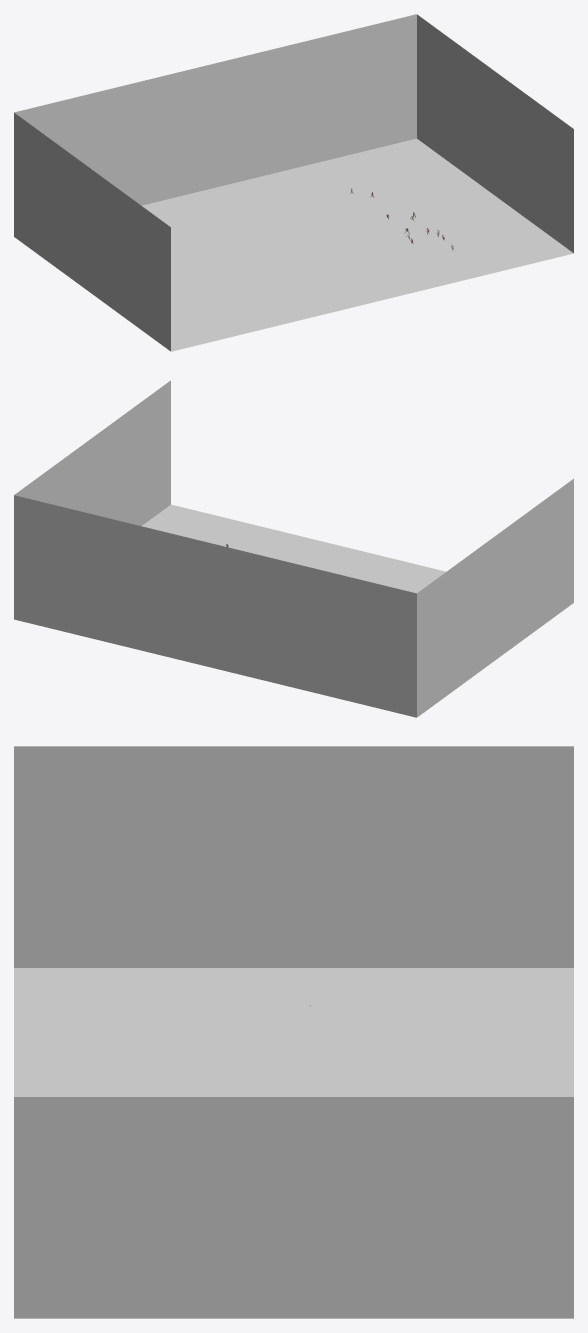
Rendered from nyt_spain_germany__model__assets_world-cup-2022-spain-germany.glb.
3 renders of one model, top to bottom at view 1: azimuth 30°, elevation 25°; view 2: azimuth 150°, elevation 25°; view 3: azimuth 270°, elevation 25°, orthographic. The views are drawn at different scales.
Parts seen in each view (by area): view 1: projection_plane; view 2: projection_plane; view 3: projection_plane.
Boxes of the visible parts, x1,y1,x2,y2 form: projection_plane: (14, 14, 573, 351); projection_plane: (14, 380, 573, 717); projection_plane: (14, 746, 573, 1318).
Size of the model in its own units: 6.78 by 2.01 by 4.58.
15 materials, 2 textured.
